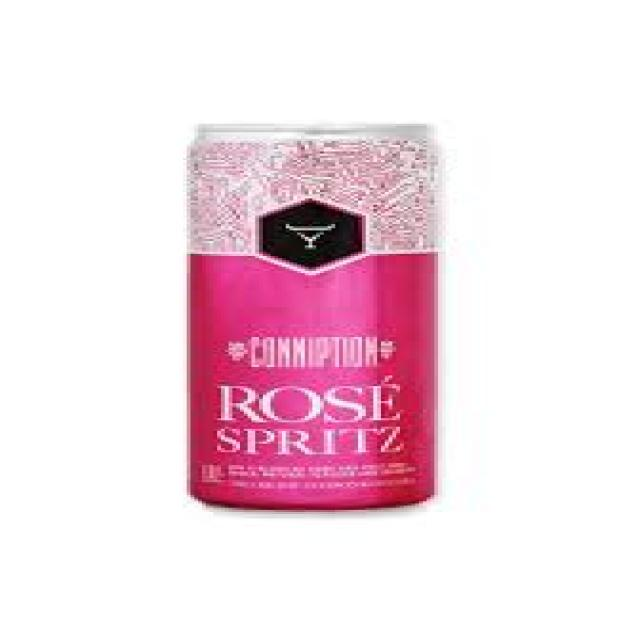Cans: (179, 113, 450, 512)
